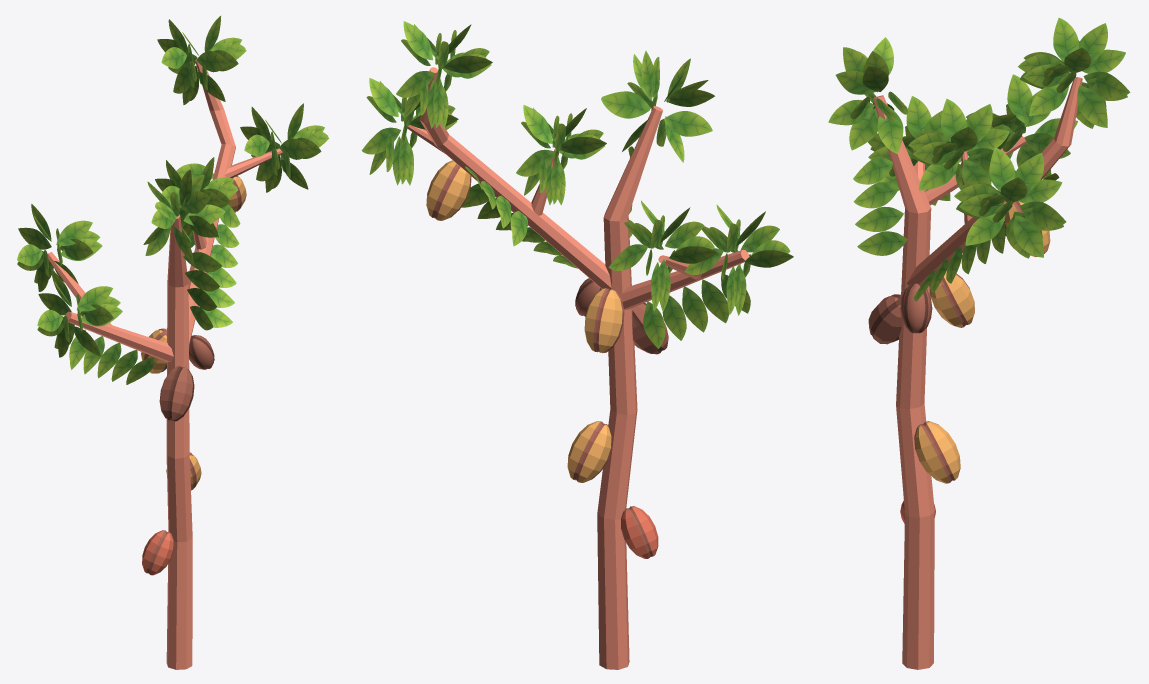
Rendered from cocoa_big.fbx.
3 renders of one model, left to right at view 1: azimuth 30°, elevation 25°; view 2: azimuth 150°, elevation 25°; view 3: azimuth 270°, elevation 25°, orthographic. The views are drawn at different scales.
Parts seen in each view (by area): view 1: cocoa.003; view 2: cocoa.003; view 3: cocoa.003.
Boxes of the visible parts, box(x1,y1,x2,y2) form: cocoa.003: box(17, 16, 329, 669); cocoa.003: box(361, 21, 793, 669); cocoa.003: box(828, 18, 1130, 669).
Bounding box in the file's own units: 469 × 787 × 322.
